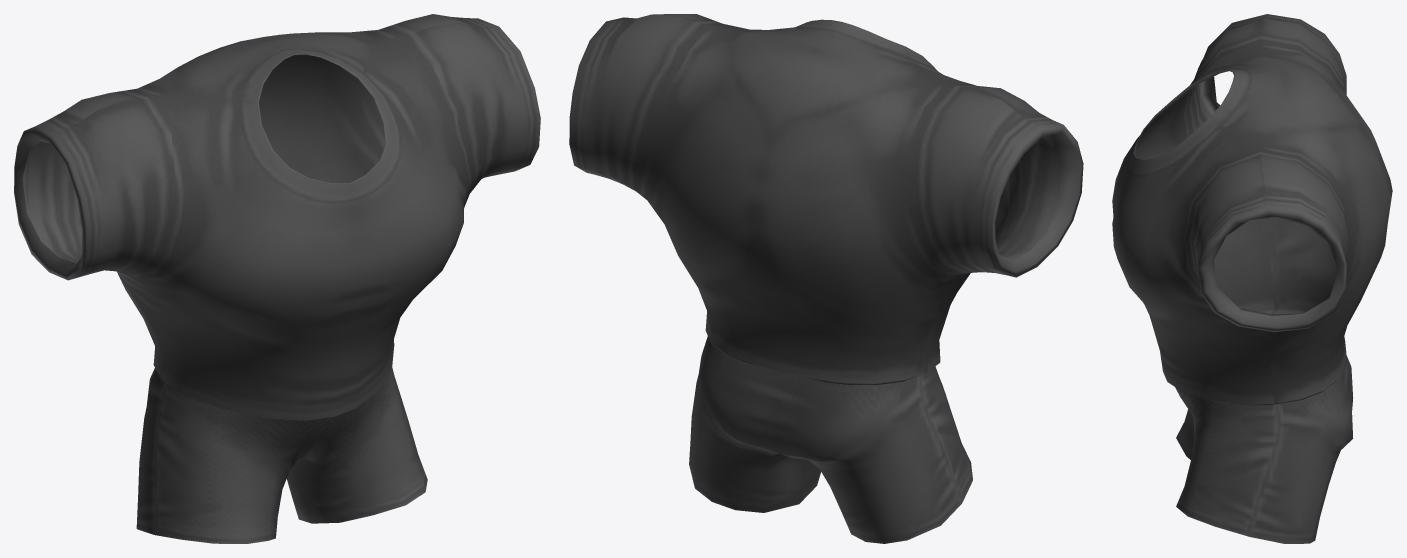
3 renders of one model, left to right at view 1: azimuth 30°, elevation 25°; view 2: azimuth 150°, elevation 25°; view 3: azimuth 270°, elevation 25°, orthographic. The views are drawn at different scales.
Visible parts, largest first — view 1: model_0_submesh_0; view 2: model_0_submesh_0; view 3: model_0_submesh_0.
Part boxes in pixels (box(x1,y1,x2,y2)): model_0_submesh_0: box(14, 14, 540, 543); model_0_submesh_0: box(569, 14, 1083, 543); model_0_submesh_0: box(1112, 14, 1392, 543).
Bounding box in the file's own units: 1.2 × 1.23 × 0.7192.
